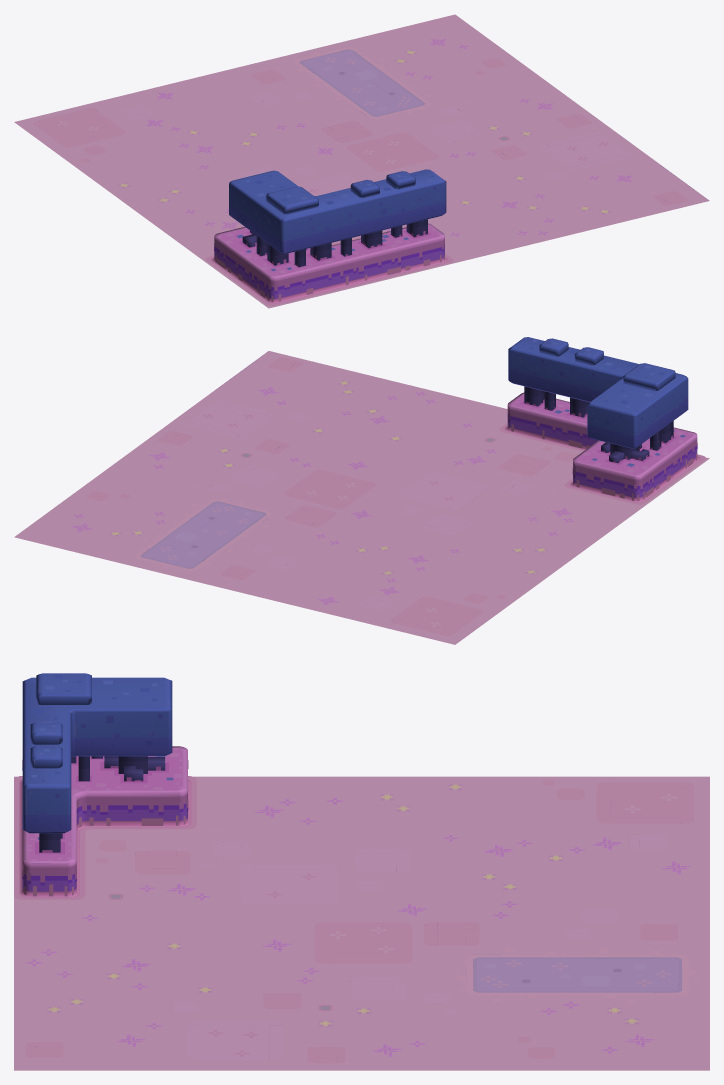
Rendered from C_forest2_02.fbx.
3 renders of one model, top to bottom at view 1: azimuth 30°, elevation 25°; view 2: azimuth 150°, elevation 25°; view 3: azimuth 270°, elevation 25°, orthographic. The views are drawn at different scales.
Visible parts, largest first — view 1: C_forest2_02; view 2: C_forest2_02; view 3: C_forest2_02.
Boxes of the visible parts, x1,y1,x2,y2 form: C_forest2_02: [14, 14, 709, 308]; C_forest2_02: [14, 337, 709, 644]; C_forest2_02: [14, 673, 709, 1070].
Size of the model in its own units: 50 by 9.62 by 50.
